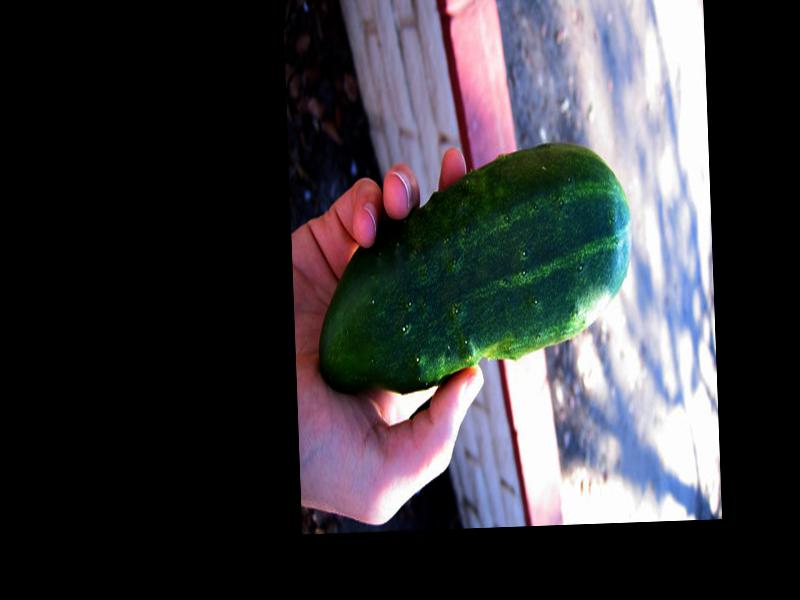Cucumber: (312, 138, 634, 394)
